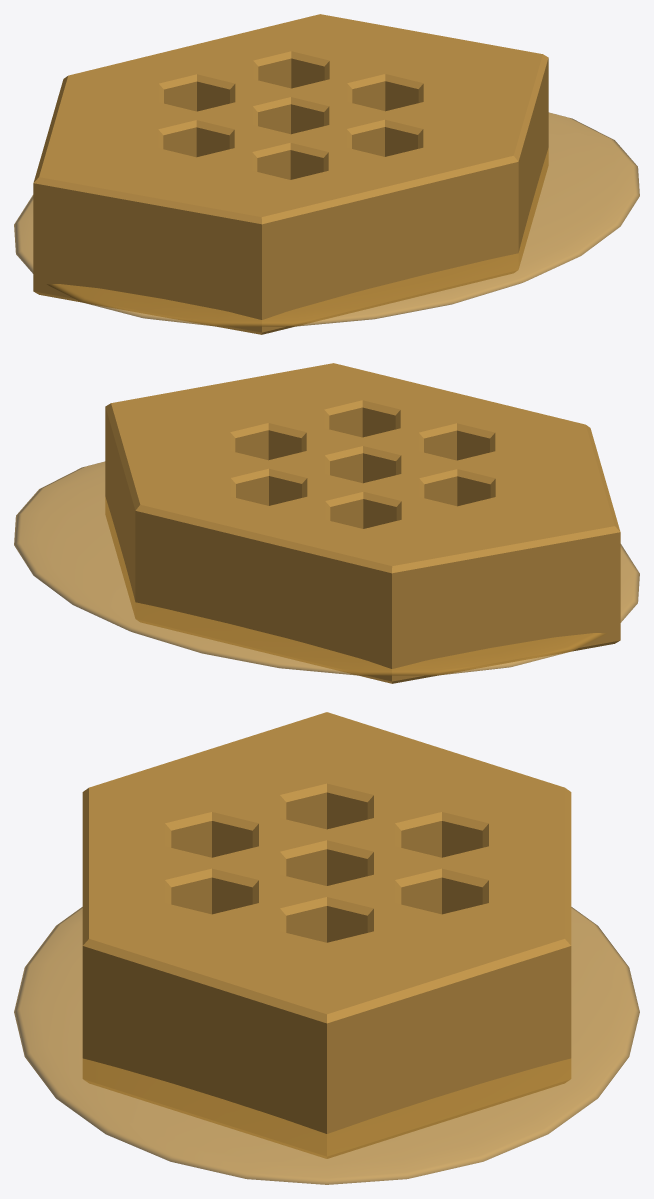
The model's file is props_p3_items__p3_honey.glb.
3 views of the same model, one above another, from view 1: azimuth 30°, elevation 25°; view 2: azimuth 150°, elevation 25°; view 3: azimuth 270°, elevation 25° (orthographic). The views are drawn at different scales.
Parts seen in each view (by area): view 1: honeycomb_cells, honey_pool; view 2: honeycomb_cells, honey_pool; view 3: honeycomb_cells, honey_pool.
Boxes of the visible parts, <box> form: honeycomb_cells: <box>33,14,548,334</box>; honey_pool: <box>14,112,639,326</box>; honeycomb_cells: <box>105,363,620,683</box>; honey_pool: <box>14,461,639,675</box>; honeycomb_cells: <box>82,712,571,1158</box>; honey_pool: <box>14,907,639,1184</box>.
Bounding box in the file's own units: 0.1071 × 0.0207 × 0.0812.
